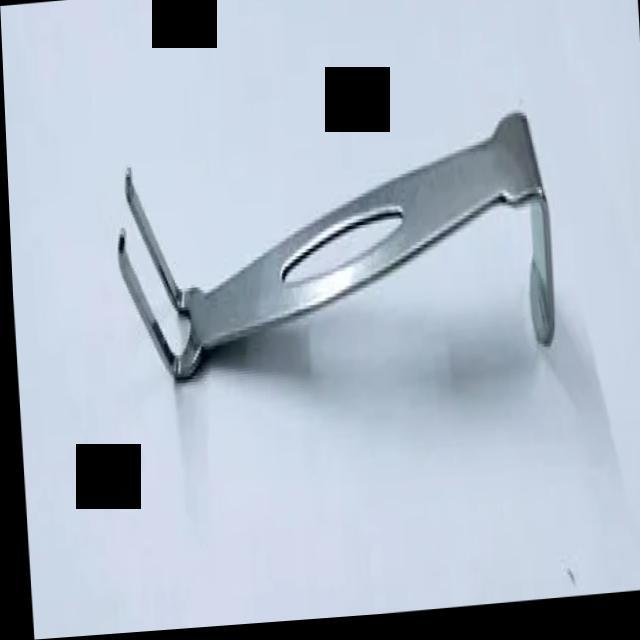Czerny Retractor: (100, 72, 562, 442)
